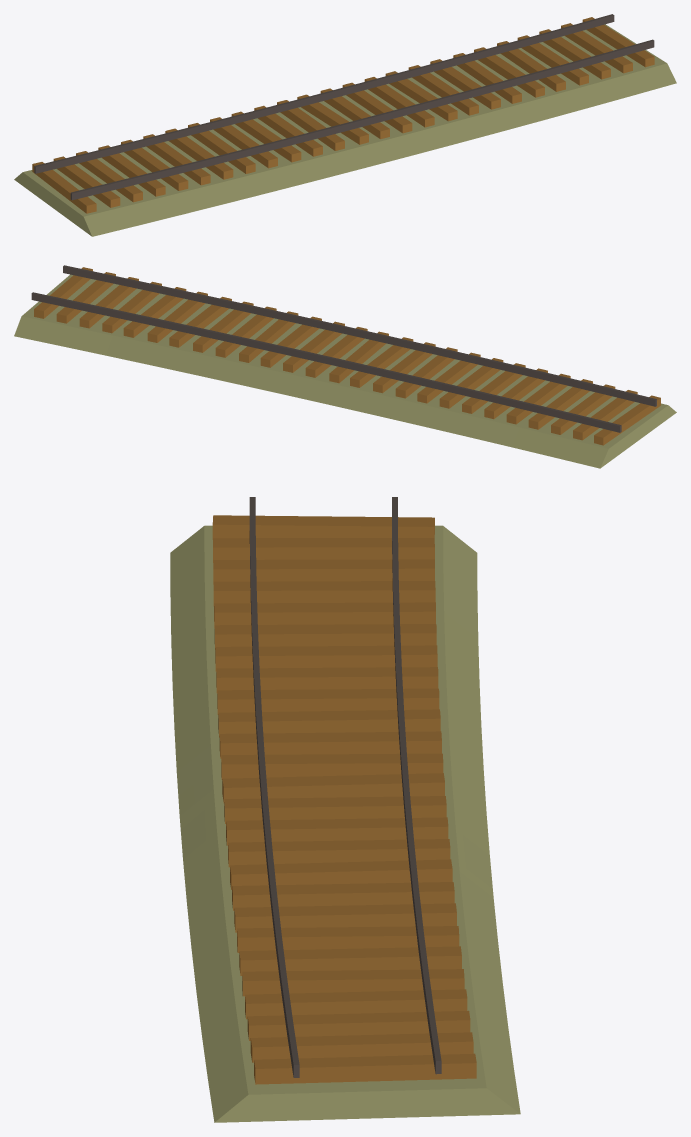
Rendered from SM_Via_CurvaR240_v1_Madera_LOD0.fbx.
3 renders of one model, top to bottom at view 1: azimuth 30°, elevation 25°; view 2: azimuth 150°, elevation 25°; view 3: azimuth 270°, elevation 25°, orthographic. The views are drawn at different scales.
Parts seen in each view (by area): view 1: SM_via_trazado_v21_LOD0; view 2: SM_via_trazado_v21_LOD0; view 3: SM_via_trazado_v21_LOD0.
Part boxes in pixels (<box>): SM_via_trazado_v21_LOD0: <box>14,14,676,236</box>; SM_via_trazado_v21_LOD0: <box>14,265,676,468</box>; SM_via_trazado_v21_LOD0: <box>170,497,520,1122</box>.
Size of the model in its own units: 15.81 by 0.72 by 4.11.
